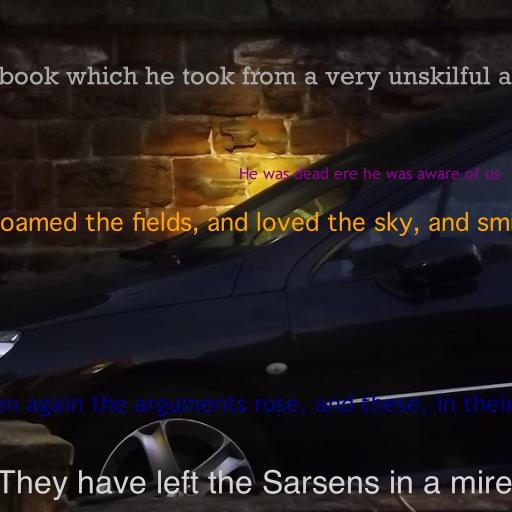Geneva: (0, 211, 512, 236)
Helvetica: (0, 469, 512, 501)
Rockwell: (0, 66, 512, 90)
Trebuchet MS: (0, 394, 512, 417), (238, 167, 500, 180)
